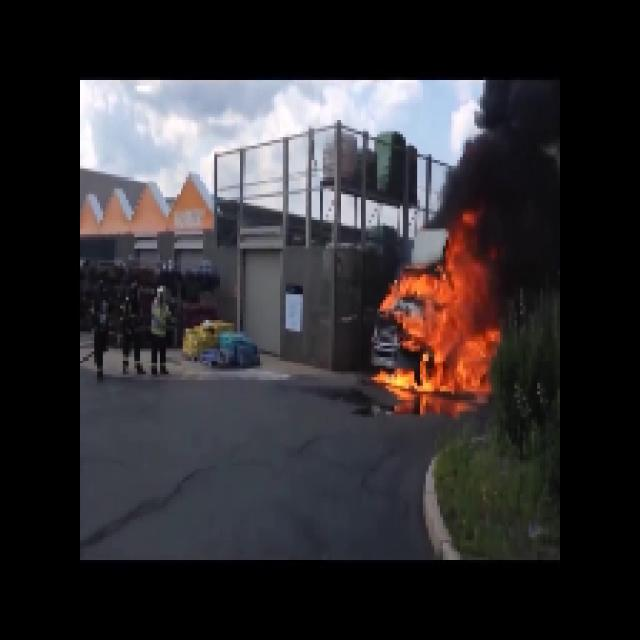fire: (388, 254, 490, 403)
smoke: (470, 82, 556, 286)
